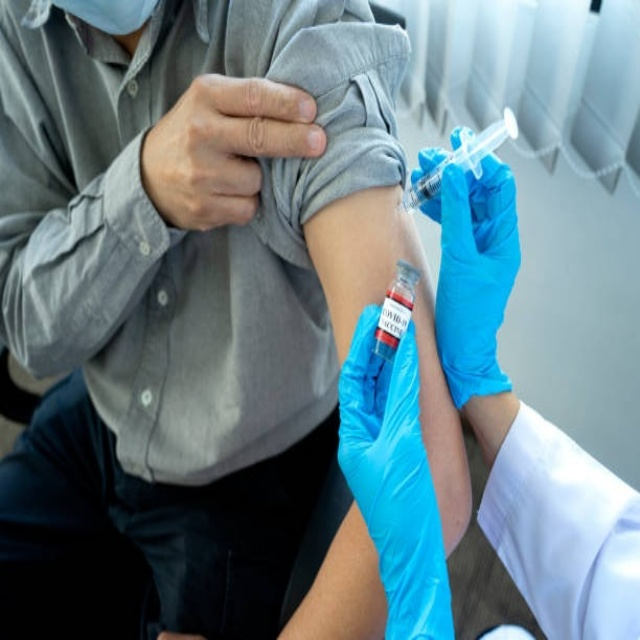Guantes: (334, 300, 463, 627), (408, 118, 535, 400)
Mascara: (41, 0, 164, 37)
Sin_guantes: (143, 68, 326, 238)
